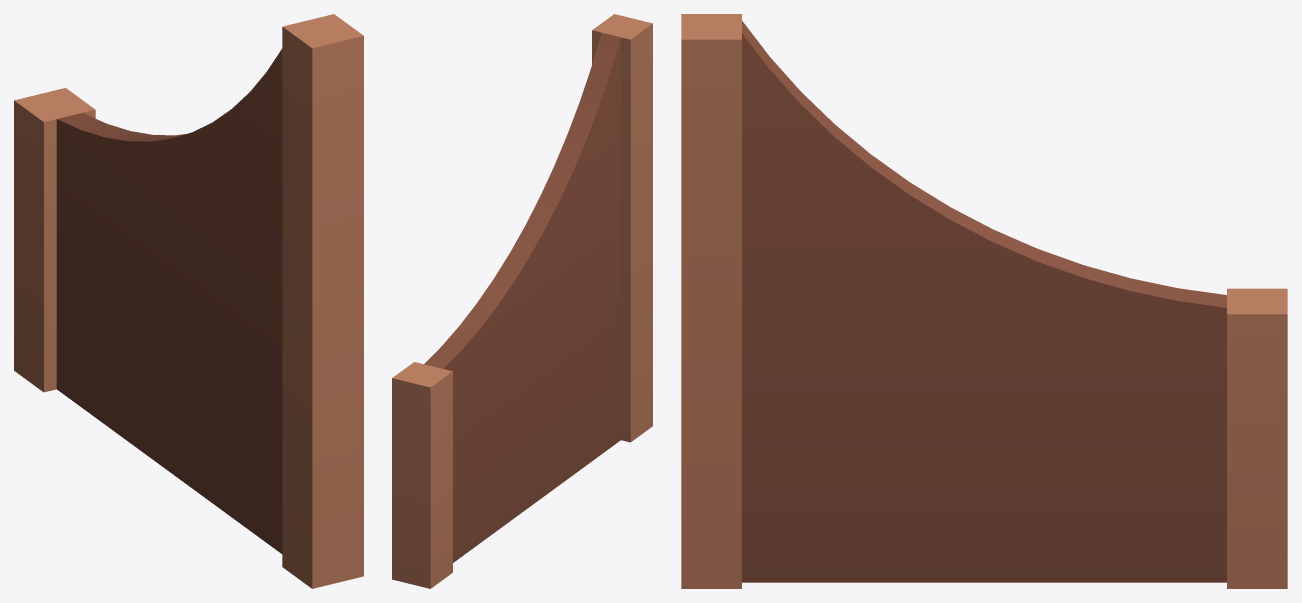
File: wall-wood-slope.glb
3 renders of one model, left to right at view 1: azimuth 30°, elevation 25°; view 2: azimuth 150°, elevation 25°; view 3: azimuth 270°, elevation 25°, orthographic. The views are drawn at different scales.
Parts seen in each view (by area): view 1: wall-wood-slope; view 2: wall-wood-slope; view 3: wall-wood-slope.
Boxes of the visible parts, left/top/right/bottom form: wall-wood-slope: left=14, top=14, right=363, bottom=588; wall-wood-slope: left=392, top=14, right=652, bottom=588; wall-wood-slope: left=681, top=14, right=1287, bottom=588.
Size of the model in its own units: 0.1 by 1 by 1.
Materials: 1 (1 with a texture image).
